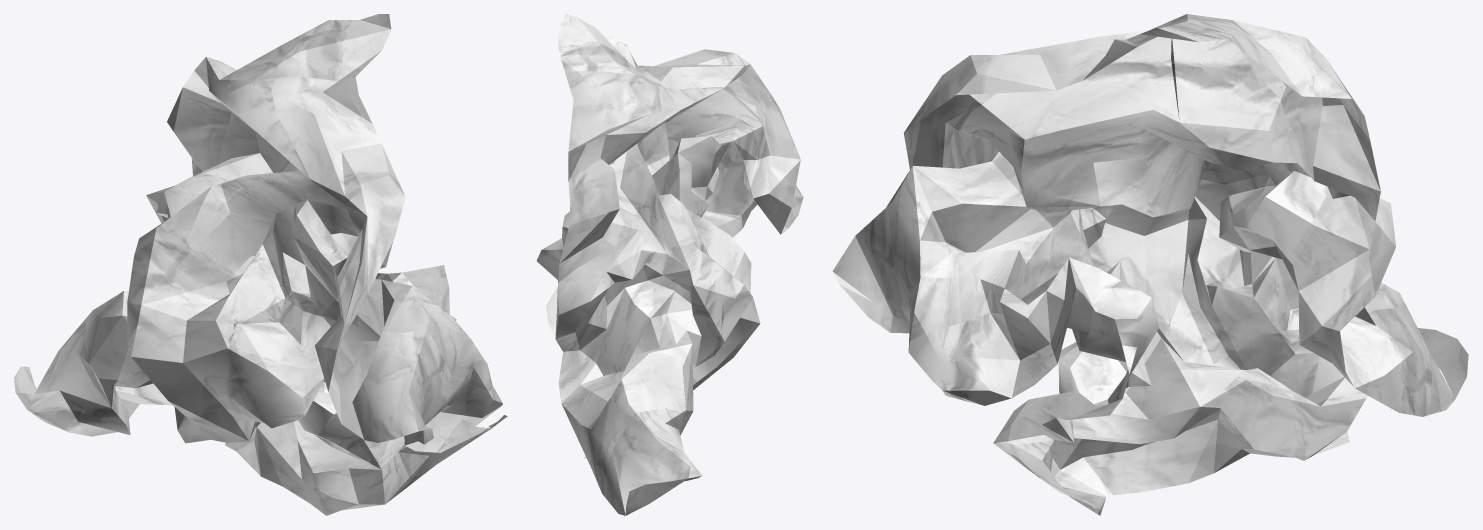
Rendered from FolhaDePapel.fbx.
The picture shows the model from 3 angles, left to right: view 1: azimuth 30°, elevation 25°; view 2: azimuth 150°, elevation 25°; view 3: azimuth 270°, elevation 25°; orthographic projection. The views are drawn at different scales.
Parts seen in each view (by area): view 1: Plane; view 2: Plane; view 3: Plane.
Part boxes in pixels (<box>): Plane: <box>14,14,507,515</box>; Plane: <box>536,14,803,515</box>; Plane: <box>832,14,1468,515</box>.
Size of the model in its own units: 66.81 by 90.82 by 102.
